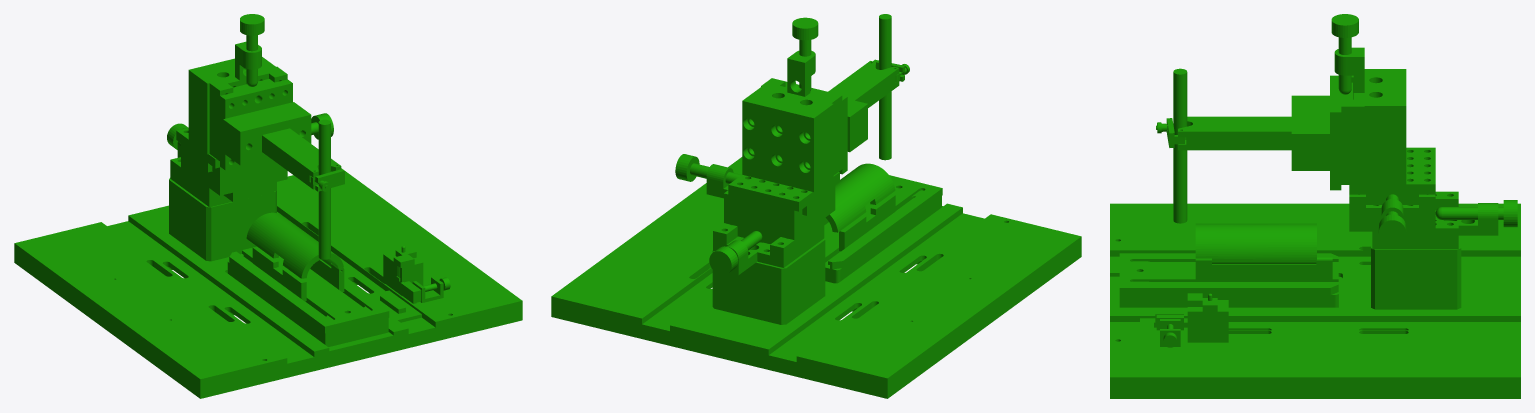
Rendered from Base_wo_sled_parts.dae.
3 renders of one model, left to right at view 1: azimuth 30°, elevation 25°; view 2: azimuth 150°, elevation 25°; view 3: azimuth 270°, elevation 25°, orthographic. The views are drawn at different scales.
Parts seen in each view (by area): view 1: Base; view 2: Base; view 3: Base.
Part boxes in pixels (<box>): Base: <box>14,14,522,398</box>; Base: <box>551,14,1081,398</box>; Base: <box>1110,14,1520,398</box>.
Bounding box in the file's own units: 30 × 30 × 23.43.
